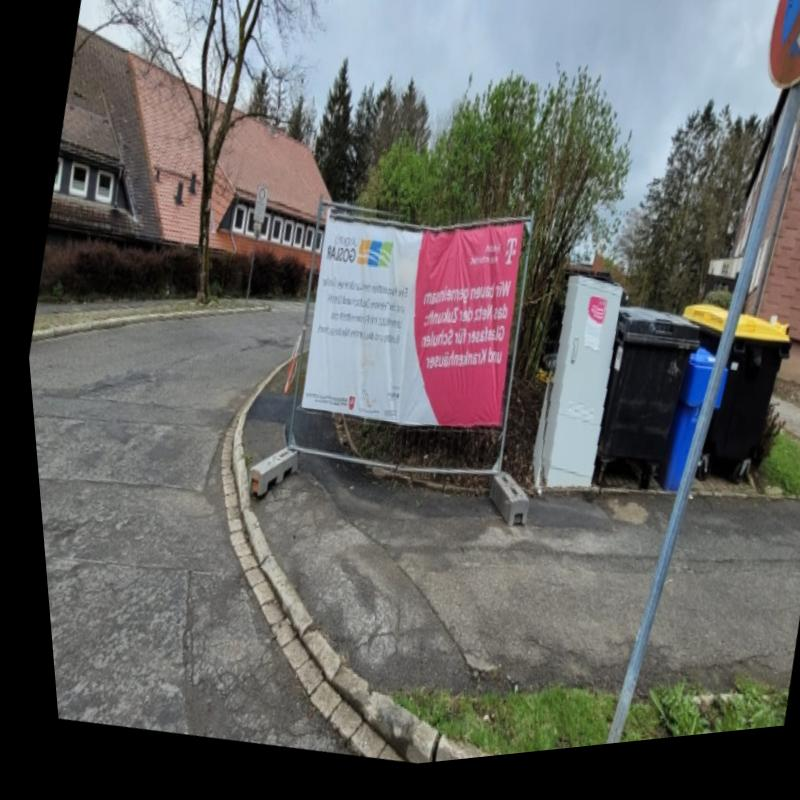Banner: (294, 225, 518, 436)
NT-Gehause: (530, 288, 616, 498)
Steaker: (575, 309, 600, 363)
